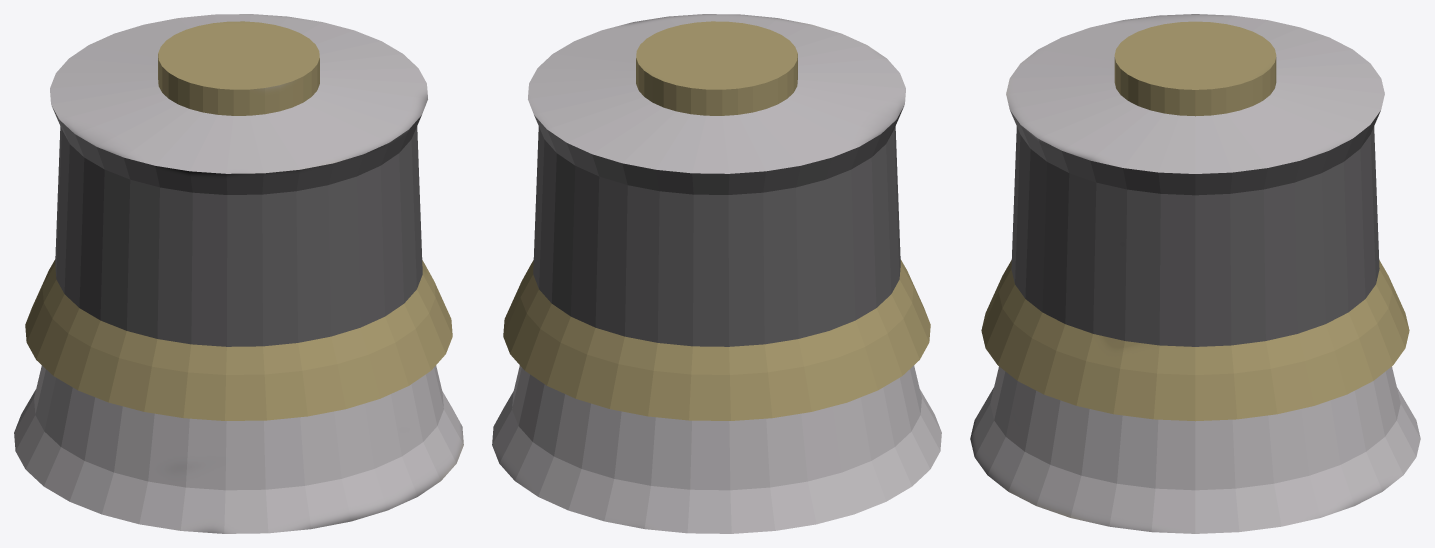
File: pote_oferenta.fbx
The picture shows the model from 3 angles, left to right: view 1: azimuth 30°, elevation 25°; view 2: azimuth 150°, elevation 25°; view 3: azimuth 270°, elevation 25°; orthographic projection.
Parts seen in each view (by area): view 1: Cylinder; view 2: Cylinder; view 3: Cylinder.
Part boxes in pixels (x1,y1,x2,y2): Cylinder: [14, 14, 463, 533]; Cylinder: [492, 14, 941, 533]; Cylinder: [970, 14, 1420, 533].
Bounding box in the file's own units: 238 × 223 × 238.
Materials: 1 (1 with a texture image).
